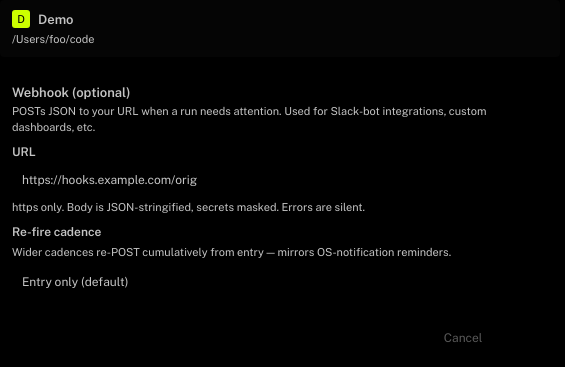
Scenario: ProjectSettings › cancel resets the draft to the persisted value
Replace the text in the field with test id "project-webhook-input" with "https://other.example.com/" at (280, 180), box [12, 165, 548, 195]
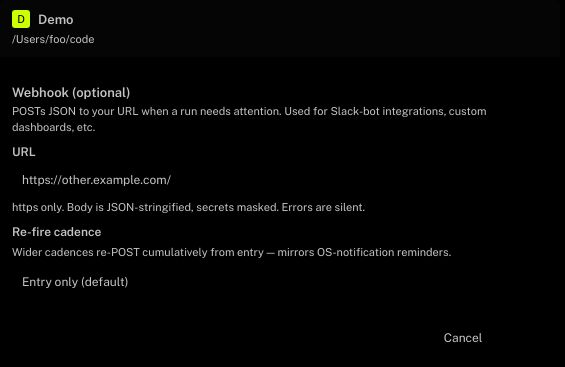
Click the button with test id "project-settings-cancel" at (463, 338), box [430, 325, 496, 351]
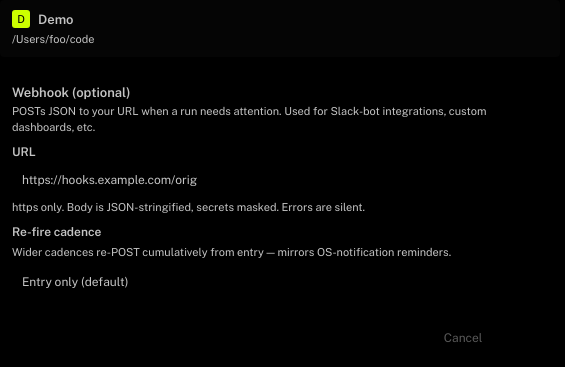
Check: the field with test id "project-webhook-input" holds "https://hooks.example.com/orig", box [12, 165, 548, 195]
